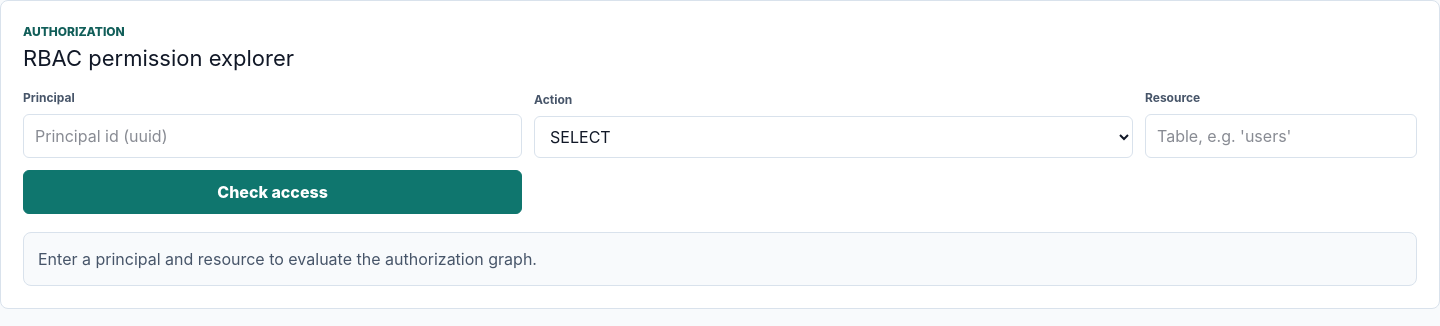
Test: PermissionExplorer › renders HTTP errors without an authorization result
Type "00000000-0000-0000-0000-000000000001" into the field labelled "Principal" at (273, 136), box [23,114,522,158]
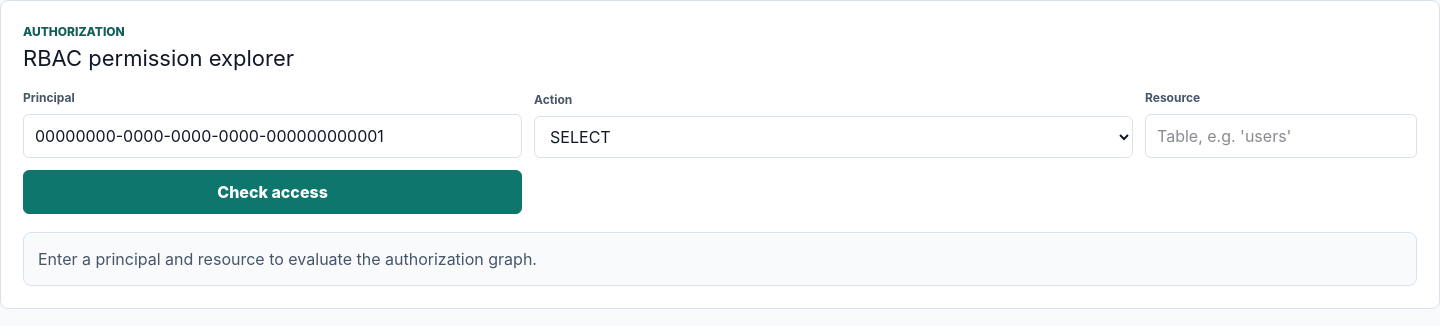
Type "items" into the field labelled "Resource" at (1281, 136), box [1145,114,1417,158]
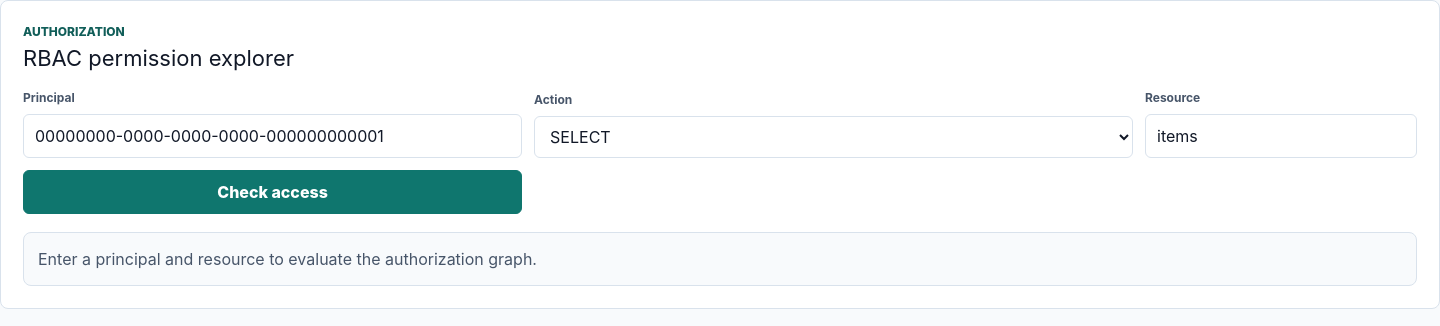
Click the button "Check access" at (273, 192), box [23,170,522,214]
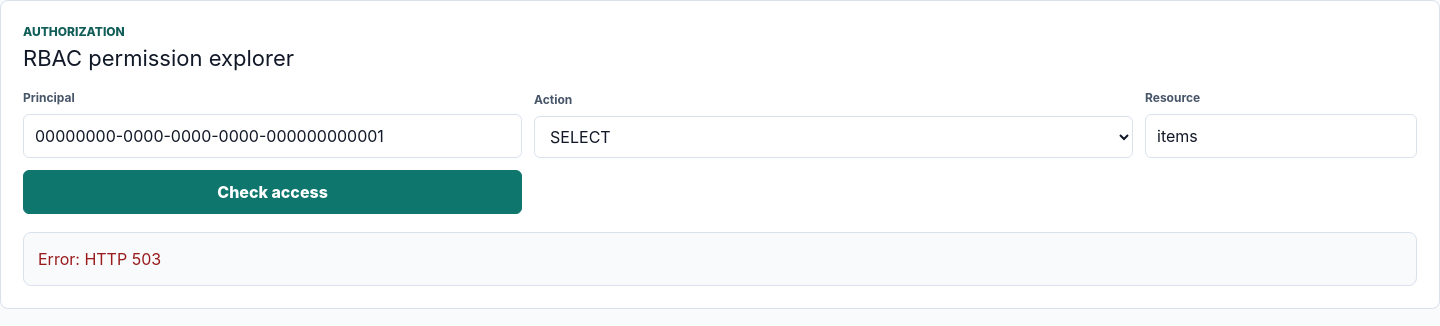
expect the text "Error: HTTP 503" is shown: met, box [38,249,161,269]
